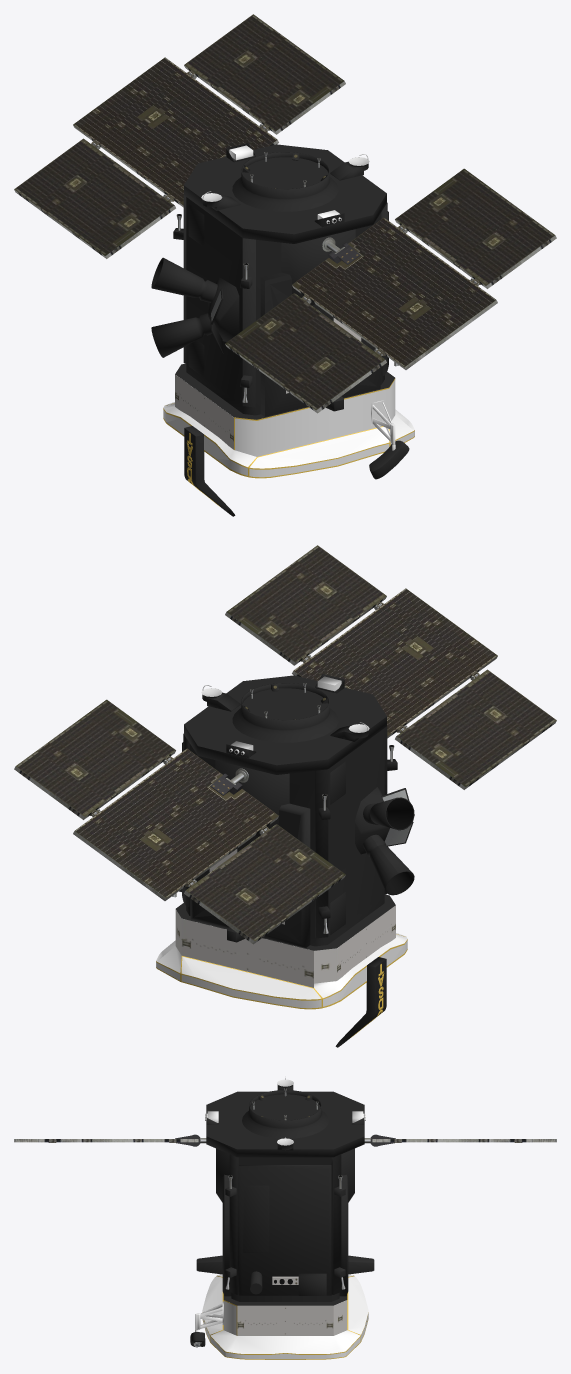
Rendered from cloud-sat-c.glb.
The picture shows the model from 3 angles, top to bottom: view 1: azimuth 30°, elevation 25°; view 2: azimuth 150°, elevation 25°; view 3: azimuth 270°, elevation 25°; orthographic projection. The views are drawn at different scales.
Parts seen in each view (by area): view 1: shiny_panel, Cylinder.008, foil_silver, tex_01, foil_gold, metal; view 2: shiny_panel, Cylinder.008, tex_01, foil_silver, foil_gold, metal; view 3: Cylinder.008, foil_silver, tex_01, metal, foil_gold.
Part boxes in pixels (left/top/right/bottom): shiny_panel: left=14, top=14, right=555, bottom=410; Cylinder.008: left=151, top=143, right=409, bottom=516; foil_silver: left=163, top=145, right=414, bottom=477; tex_01: left=14, top=65, right=556, bottom=449; foil_gold: left=163, top=378, right=414, bottom=506; metal: left=176, top=152, right=398, bottom=402; shiny_panel: left=15, top=545, right=556, bottom=941; Cylinder.008: left=176, top=674, right=414, bottom=1047; tex_01: left=14, top=596, right=556, bottom=987; foil_silver: left=156, top=676, right=407, bottom=1008; foil_gold: left=156, top=934, right=407, bottom=1037; metal: left=172, top=683, right=394, bottom=933; Cylinder.008: left=190, top=1084, right=374, bottom=1347; foil_silver: left=195, top=1111, right=368, bottom=1359; tex_01: left=14, top=1139, right=556, bottom=1335; metal: left=175, top=1088, right=395, bottom=1346; foil_gold: left=202, top=1275, right=368, bottom=1359.
Size of the model in its own units: 2.41 by 3.2 by 5.52.
7 materials, 4 textured.
